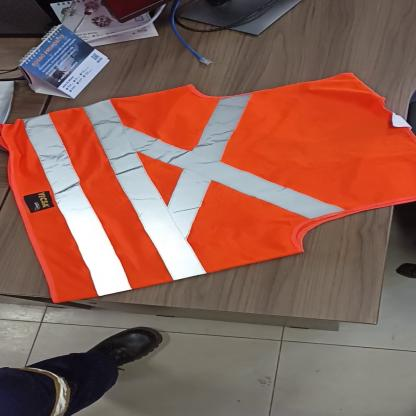colete: (4, 70, 416, 304)
